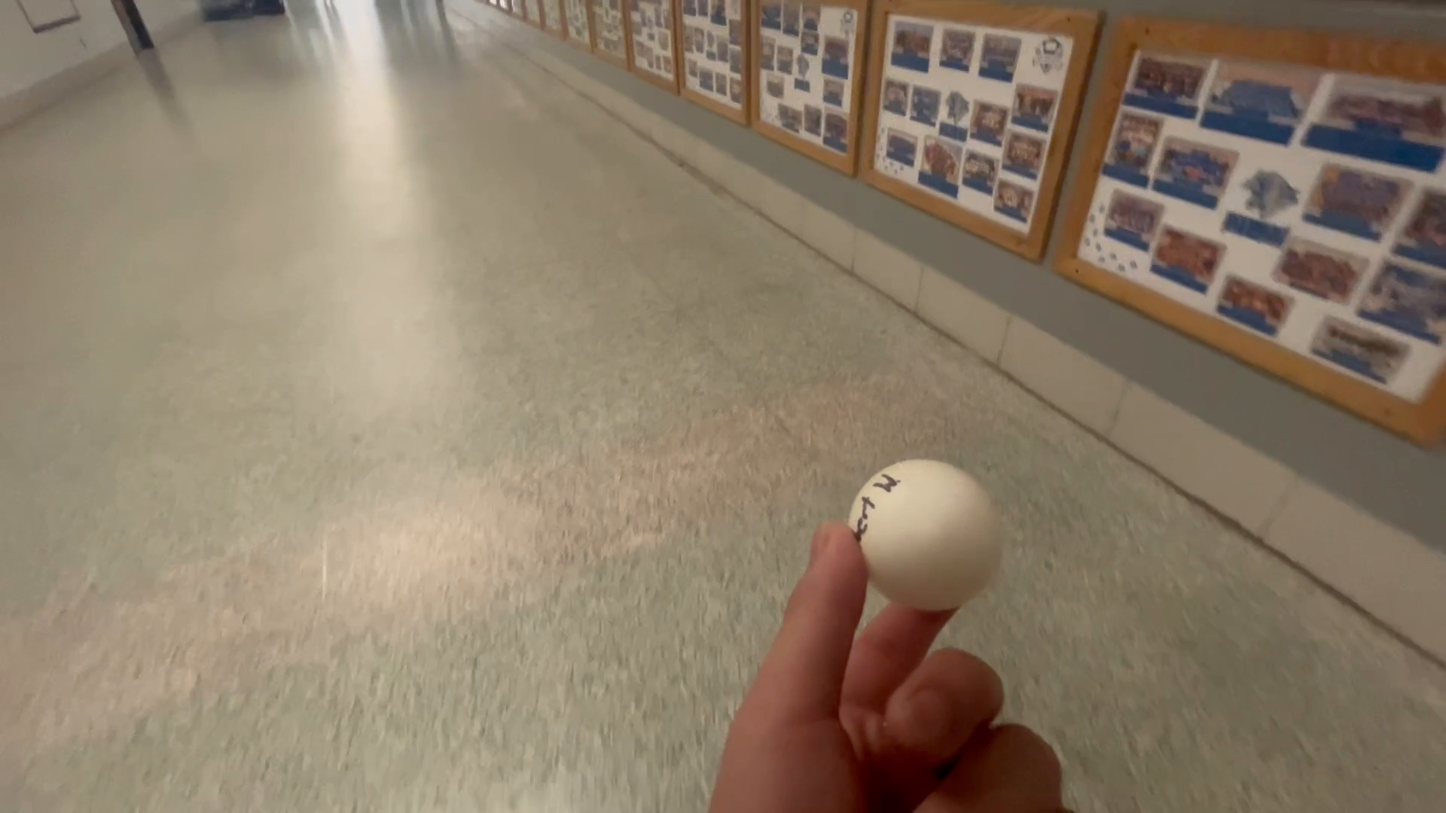Ball: (840, 456, 1025, 622)
